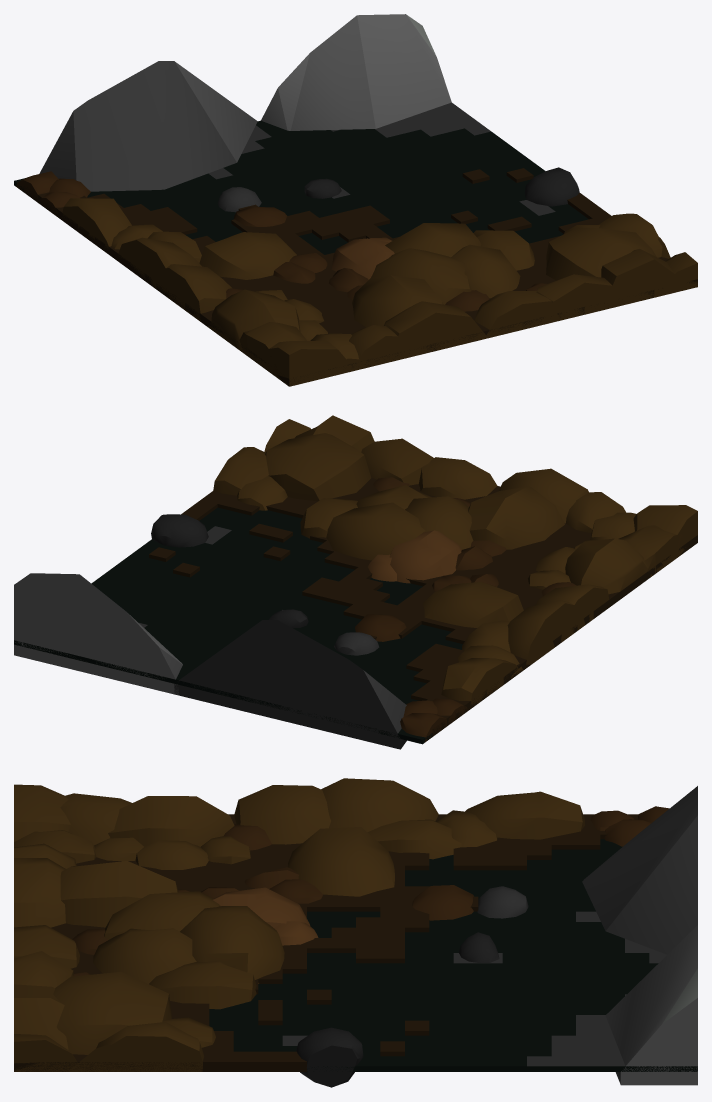
File: holes_rocks_bl.glb
3 renders of one model, top to bottom at view 1: azimuth 30°, elevation 25°; view 2: azimuth 150°, elevation 25°; view 3: azimuth 270°, elevation 25°, orthographic. The views are drawn at different scales.
Parts seen in each view (by area): view 1: holes_rocks_bl_pit, holes_rocks_bl_rock_left, holes_rocks_bl_rock_mid, holes_rocks_bl_dirt_base, holes_rocks_bl_dirt_89, holes_rocks_bl_dirt_1, holes_rocks_bl_dirt_23, holes_rocks_bl_dirt_59, holes_rocks_bl_dirt_3, holes_rocks_bl_dirt_22, holes_rocks_bl_dirt_2, holes_rocks_bl_dirt_46 (+24 smaller); view 2: holes_rocks_bl_pit, holes_rocks_bl_rock_left, holes_rocks_bl_dirt_base, holes_rocks_bl_rock_mid, holes_rocks_bl_dirt_1, holes_rocks_bl_dirt_2, holes_rocks_bl_dirt_31, holes_rocks_bl_dirt_23, holes_rocks_bl_dirt_3, holes_rocks_bl_dirt_28, holes_rocks_bl_dirt_0, holes_rocks_bl_dirt_72 (+25 smaller); view 3: holes_rocks_bl_pit, holes_rocks_bl_dirt_base, holes_rocks_bl_rock_left, holes_rocks_bl_rock_mid, holes_rocks_bl_dirt_1, holes_rocks_bl_dirt_23, holes_rocks_bl_dirt_31, holes_rocks_bl_dirt_2, holes_rocks_bl_dirt_3, holes_rocks_bl_dirt_28, holes_rocks_bl_dirt_65, holes_rocks_bl_dirt_50 (+32 smaller).
Boxes of the visible parts, x1=… form: holes_rocks_bl_pit: x1=14, y1=102, x2=588, y2=254; holes_rocks_bl_rock_left: x1=39, y1=61, x2=257, y2=191; holes_rocks_bl_rock_mid: x1=261, y1=14, x2=451, y2=130; holes_rocks_bl_dirt_base: x1=23, y1=168, x2=697, y2=386; holes_rocks_bl_dirt_89: x1=384, y1=301, x2=487, y2=362; holes_rocks_bl_dirt_1: x1=546, y1=227, x2=656, y2=280; holes_rocks_bl_dirt_23: x1=199, y1=232, x2=296, y2=279; holes_rocks_bl_dirt_59: x1=601, y1=249, x2=691, y2=308; holes_rocks_bl_dirt_3: x1=207, y1=289, x2=300, y2=352; holes_rocks_bl_dirt_22: x1=262, y1=340, x2=353, y2=386; holes_rocks_bl_dirt_2: x1=352, y1=275, x2=443, y2=327; holes_rocks_bl_dirt_46: x1=371, y1=248, x2=471, y2=304; holes_rocks_bl_pit: x1=14, y1=507, x2=462, y2=744; holes_rocks_bl_rock_left: x1=174, y1=620, x2=406, y2=749; holes_rocks_bl_dirt_base: x1=149, y1=477, x2=697, y2=736; holes_rocks_bl_rock_mid: x1=14, y1=573, x2=182, y2=694; holes_rocks_bl_dirt_1: x1=265, y1=433, x2=371, y2=501; holes_rocks_bl_dirt_2: x1=468, y1=486, x2=564, y2=549; holes_rocks_bl_dirt_31: x1=326, y1=502, x2=425, y2=560; holes_rocks_bl_dirt_23: x1=423, y1=582, x2=523, y2=627; holes_rocks_bl_dirt_3: x1=565, y1=538, x2=652, y2=594; holes_rocks_bl_dirt_28: x1=507, y1=600, x2=585, y2=667; holes_rocks_bl_dirt_0: x1=389, y1=530, x2=461, y2=583; holes_rocks_bl_dirt_72: x1=419, y1=457, x2=497, y2=499; holes_rocks_bl_pit: x1=209, y1=839, x2=697, y2=1071; holes_rocks_bl_dirt_base: x1=14, y1=814, x2=638, y2=1071; holes_rocks_bl_rock_left: x1=582, y1=786, x2=697, y2=954; holes_rocks_bl_rock_mid: x1=605, y1=925, x2=697, y2=1085; holes_rocks_bl_dirt_1: x1=53, y1=971, x2=171, y2=1054; holes_rocks_bl_dirt_23: x1=288, y1=827, x2=394, y2=896; holes_rocks_bl_dirt_31: x1=180, y1=906, x2=284, y2=983; holes_rocks_bl_dirt_2: x1=60, y1=861, x2=178, y2=927; holes_rocks_bl_dirt_3: x1=108, y1=796, x2=234, y2=846; holes_rocks_bl_dirt_28: x1=321, y1=778, x2=438, y2=832; holes_rocks_bl_dirt_65: x1=91, y1=1022, x2=203, y2=1071; holes_rocks_bl_dirt_50: x1=234, y1=785, x2=330, y2=844.
Bounding box in the file's own units: 23.98 × 5.91 × 27.98.
